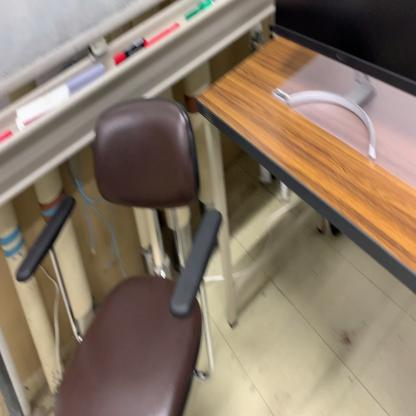chair: (14, 95, 223, 416)
